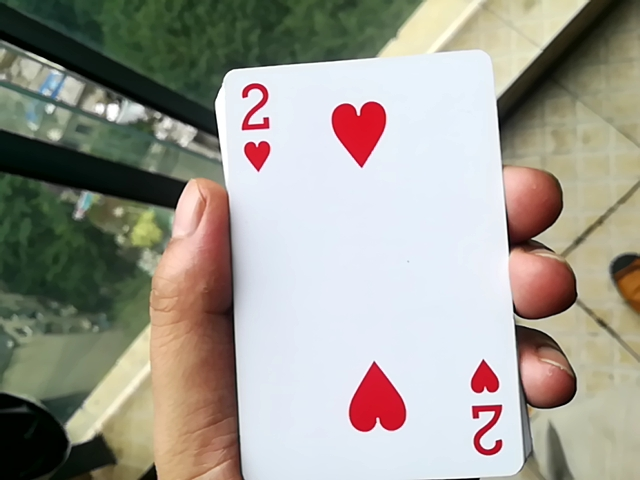hx 2: (198, 48, 530, 477)
